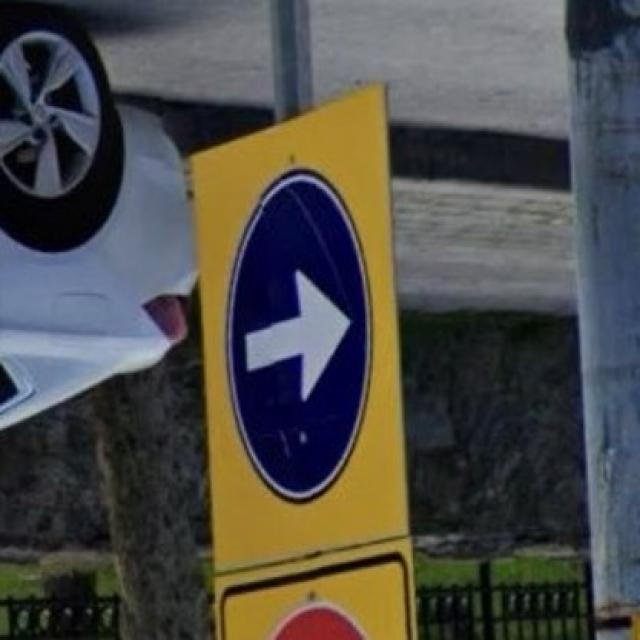Turn Right: (215, 170, 379, 497)
